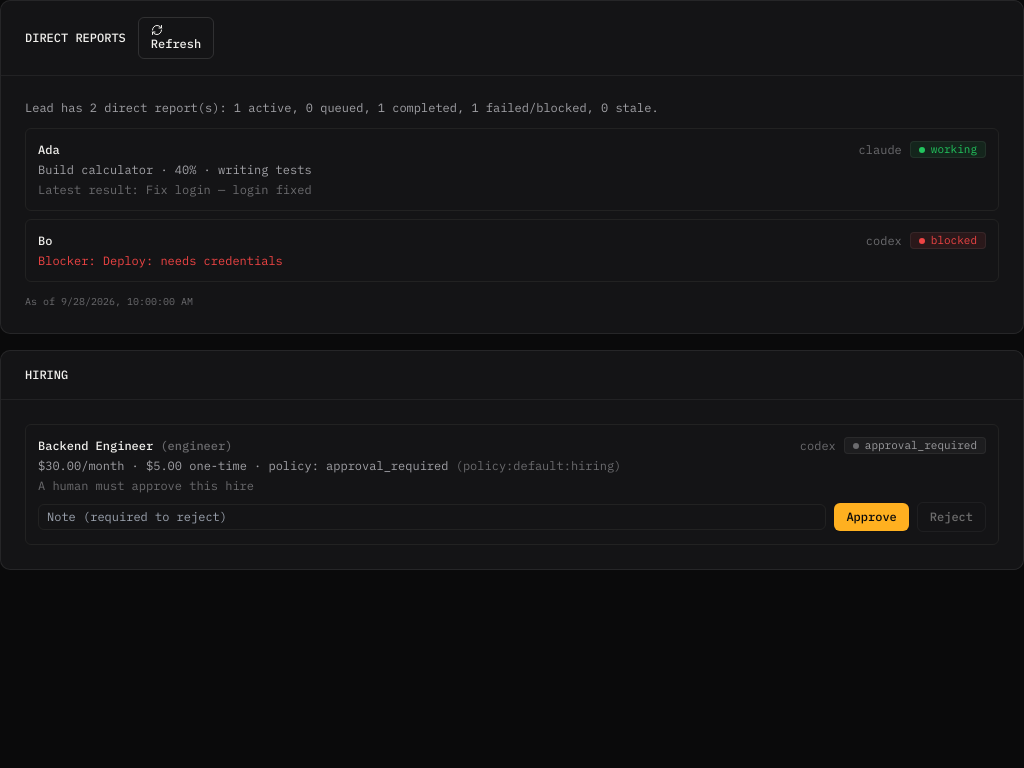
Test case: ManagerPanel › approves through the approval endpoint and rejects only with a reason
Expected: the button "Reject" is disabled, [917,502,986,532]
Step 1. Type "welcome" into the field named "Decision note for Backend Engineer" → (432, 517), box [38,504,826,530]
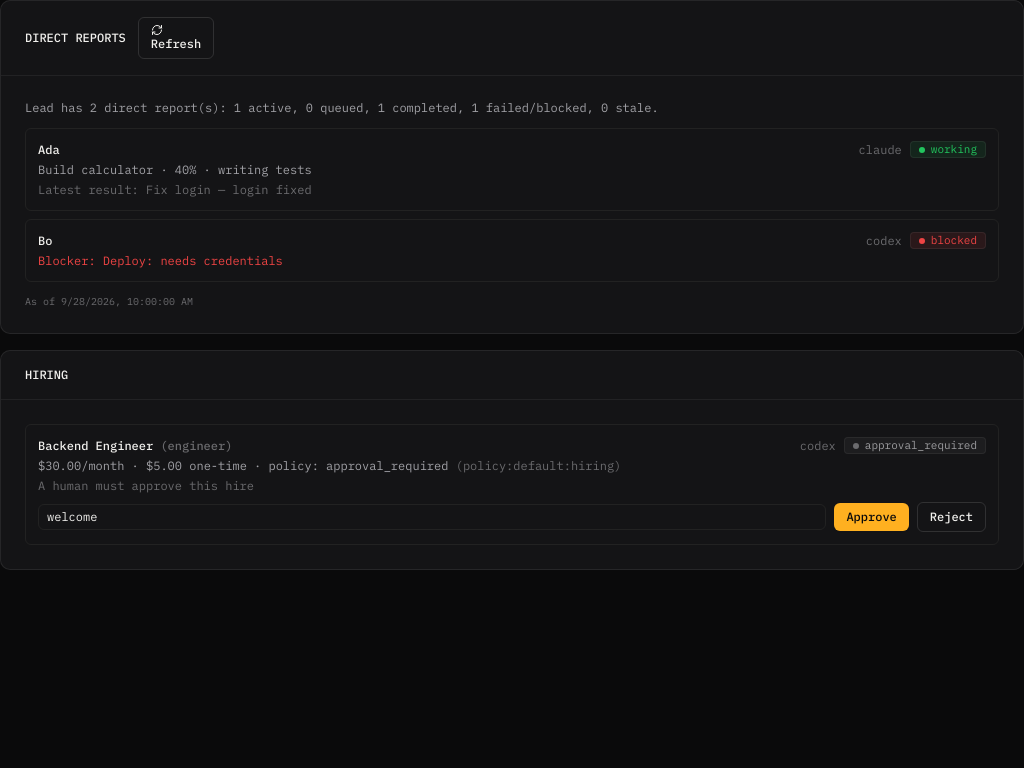
Expected: the button "Reject" is enabled, [917,502,986,532]
Step 2. Click the button "Approve" → (872, 517), box [834,503,909,531]
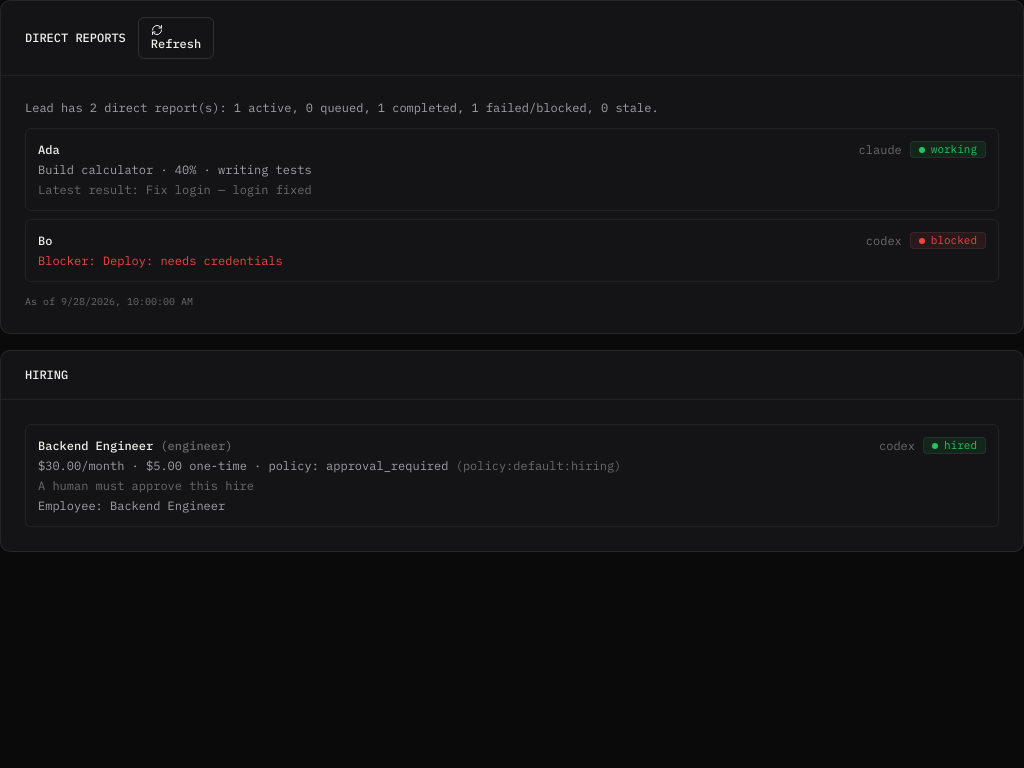
Expected: the text "Employee: Backend Engineer" is shown, [38,498,225,513]
